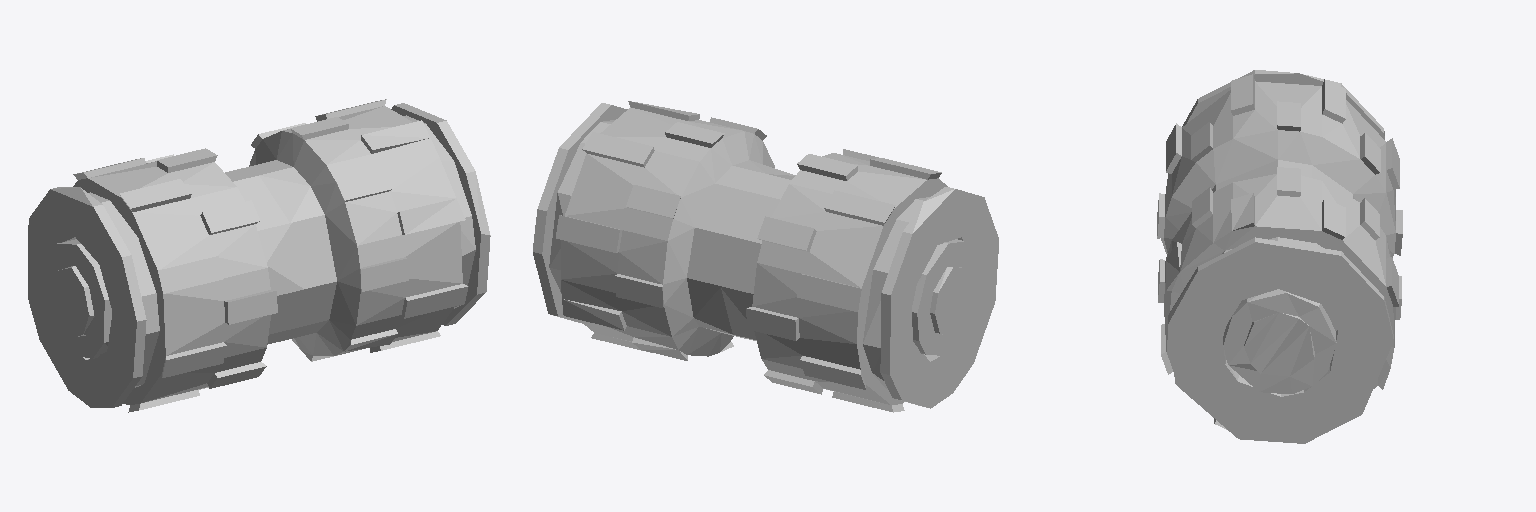
The model's file is Kola_000006.obj.
The picture shows the model from 3 angles: view 1: azimuth 30°, elevation 25°; view 2: azimuth 150°, elevation 25°; view 3: azimuth 270°, elevation 25°; orthographic projection.
Visible parts, largest first — view 1: Cylinder.004; view 2: Cylinder.004; view 3: Cylinder.004.
Boxes of the visible parts, x1,y1,x2,y2 form: Cylinder.004: [28, 99, 490, 412]; Cylinder.004: [533, 101, 998, 412]; Cylinder.004: [1157, 70, 1402, 443].
Size of the model in its own units: 2.17 by 1.25 by 1.25.